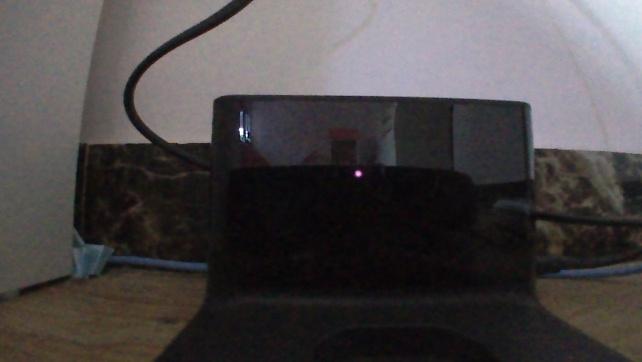wire: (120, 0, 251, 173), (532, 204, 641, 282), (105, 252, 210, 276)
